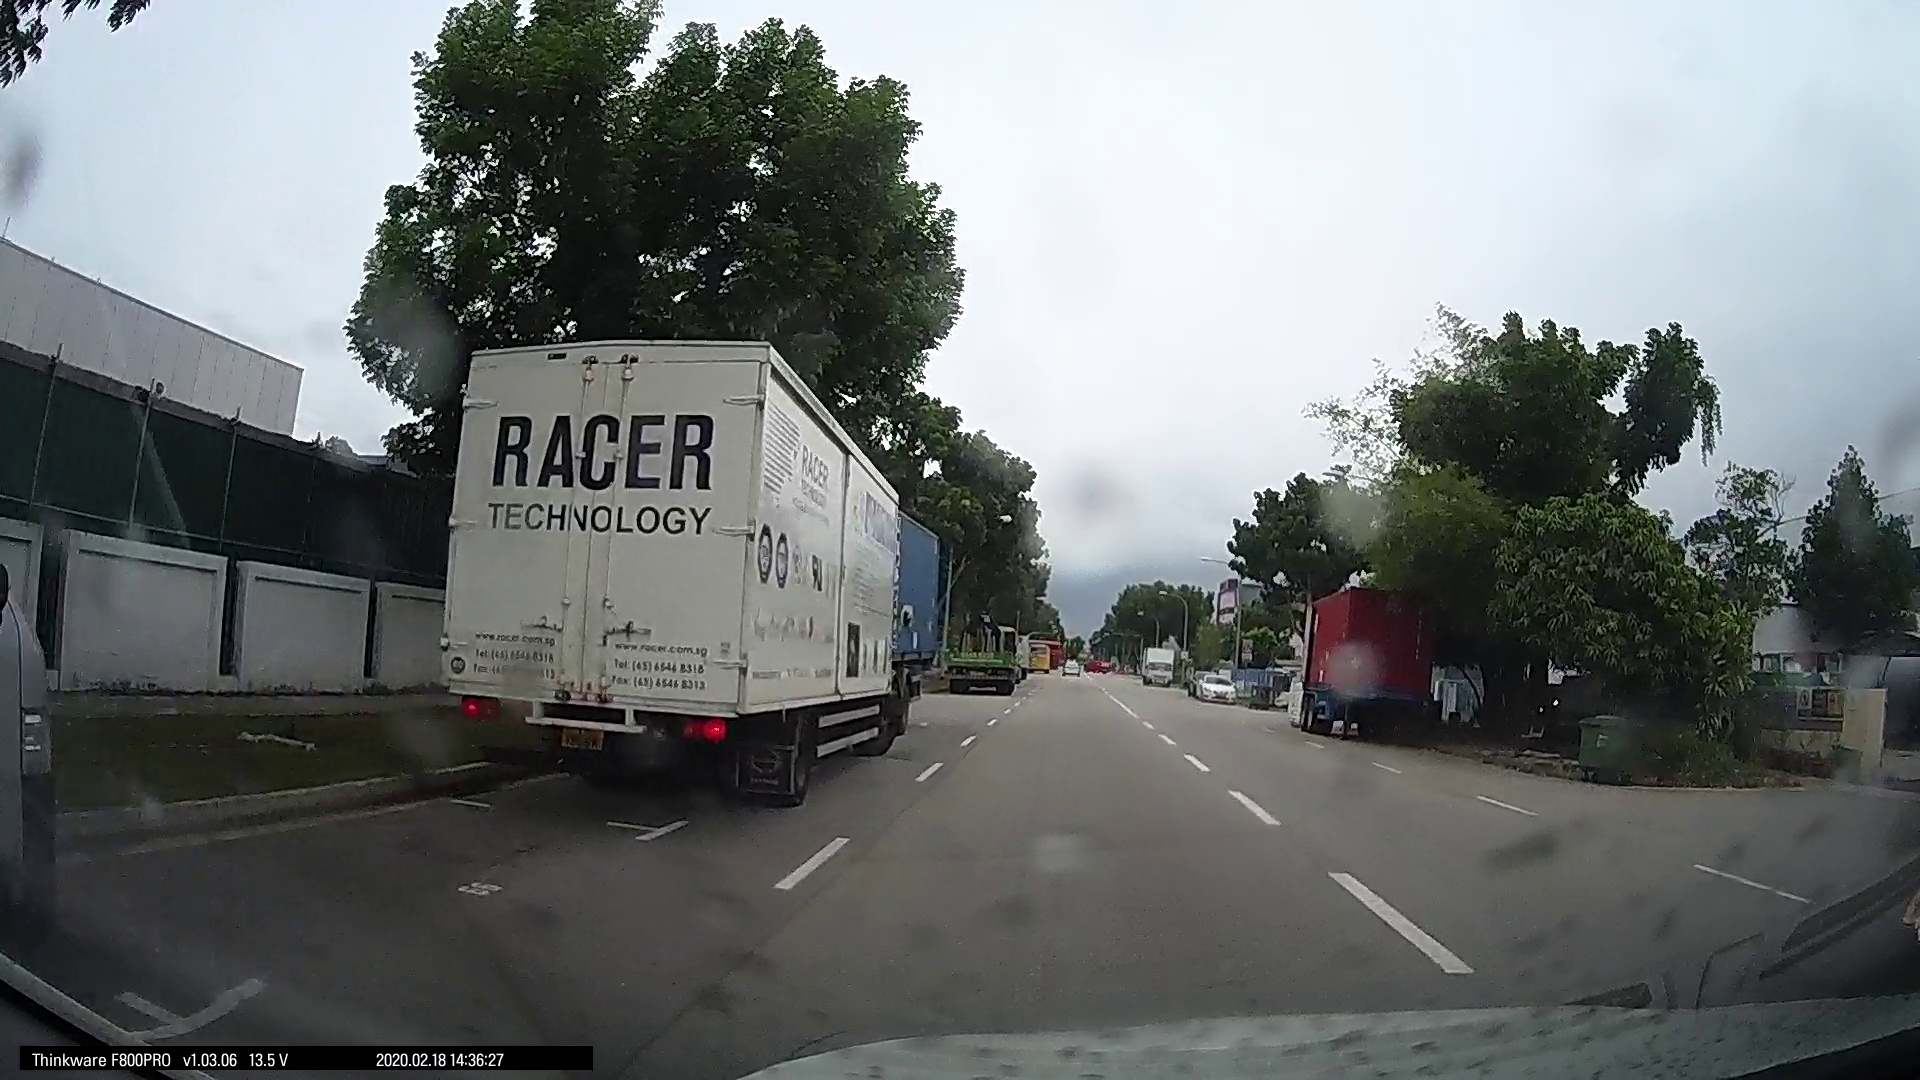Heavy Vehicle: (434, 328, 916, 808), (1286, 580, 1447, 744)
